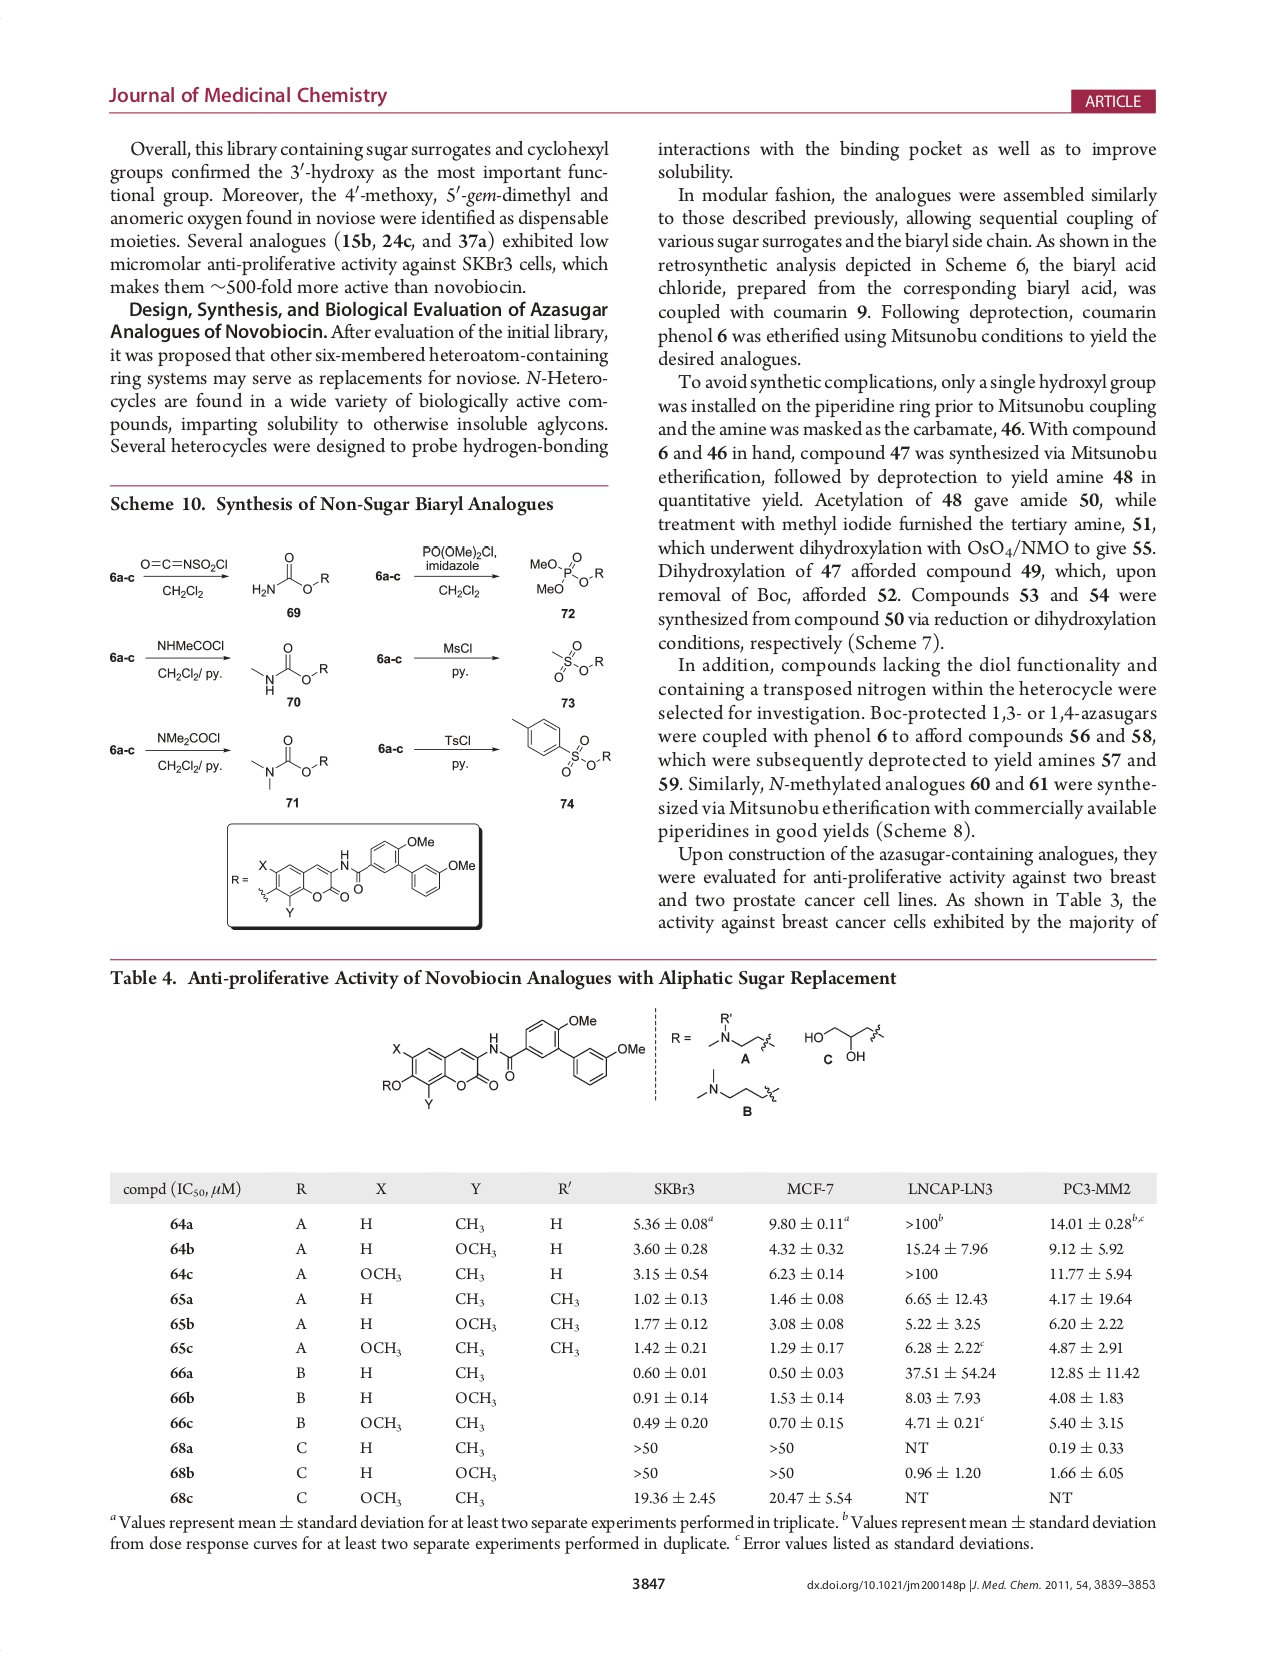exist_molecular: (376, 1009, 649, 1110), (251, 833, 473, 922), (505, 710, 616, 785), (247, 731, 330, 793), (251, 636, 331, 698), (801, 1015, 891, 1068), (525, 544, 606, 600), (251, 544, 330, 601), (692, 1067, 783, 1106), (696, 1008, 779, 1051), (548, 632, 608, 686)
